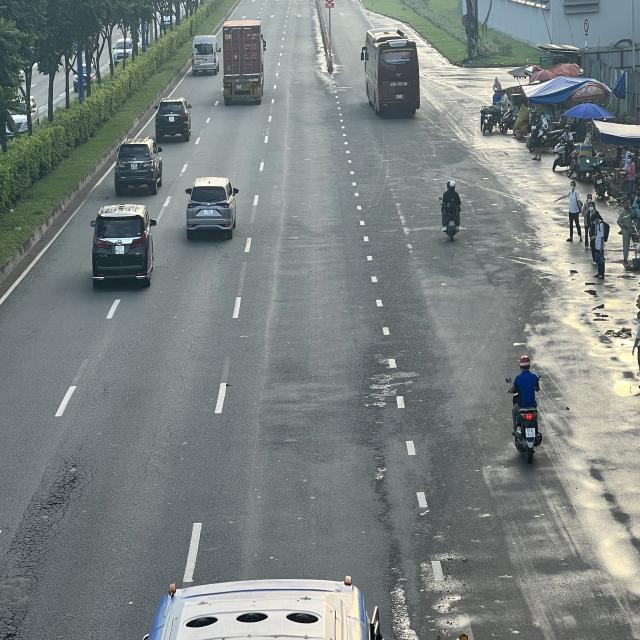car: (91, 204, 158, 286), (183, 180, 239, 238), (114, 141, 164, 198), (158, 99, 195, 145)
coach: (362, 31, 422, 118)
container: (222, 22, 266, 105)
van: (192, 34, 222, 76)
